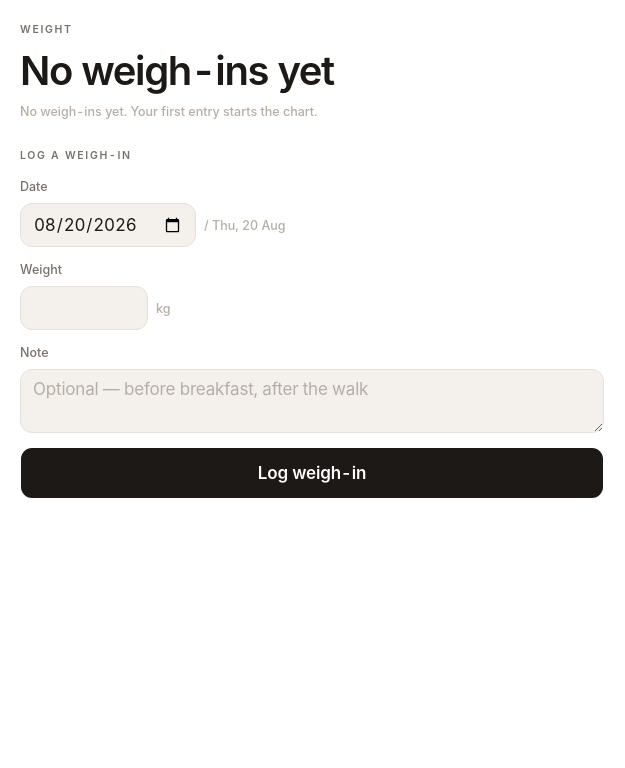
Test: logging a weigh-in › shows the new weigh-in before the server answers
The width and height of the screenshot is (625, 768).
In the field labelled "Weight": (84, 308) top-left (20, 286), bottom-right (148, 330), type "77,4"
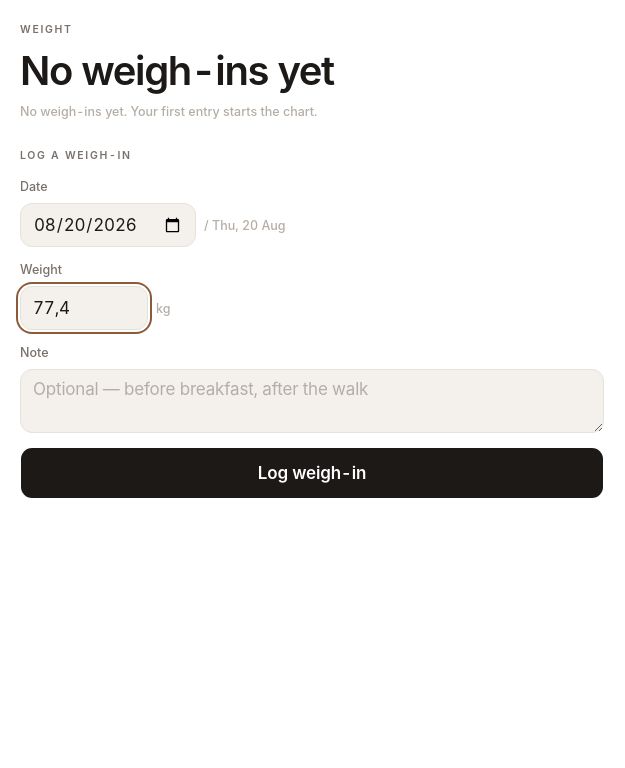
Click the button "Log weigh-in": click(312, 473) top-left (20, 447), bottom-right (604, 499)
(page scrolled)
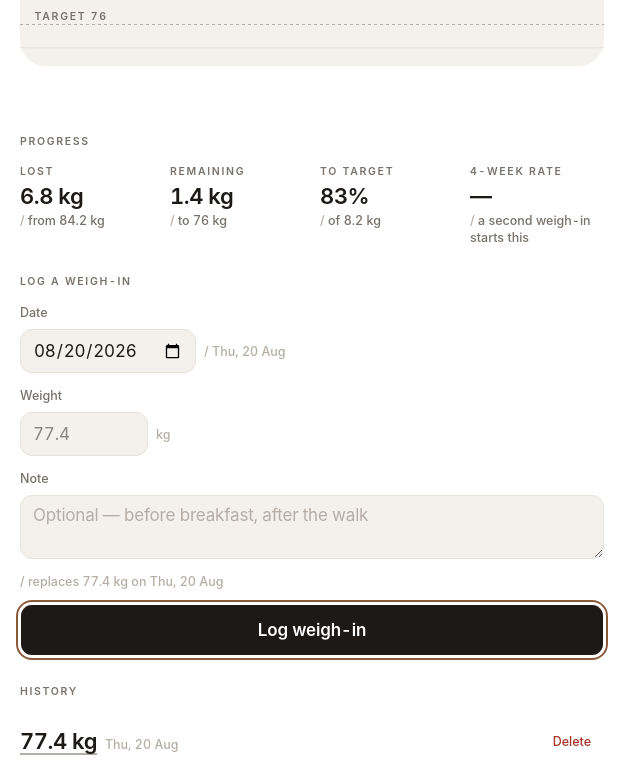
expect the number of list items is 1: met, box top-left (20, 714), bottom-right (604, 767)
expect the list item shows "77.4 kg": met, box top-left (20, 714), bottom-right (528, 767)
